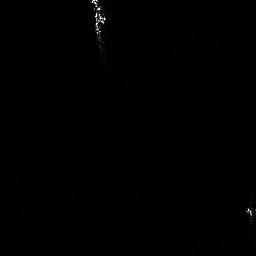ship: (90, 1, 105, 48)
